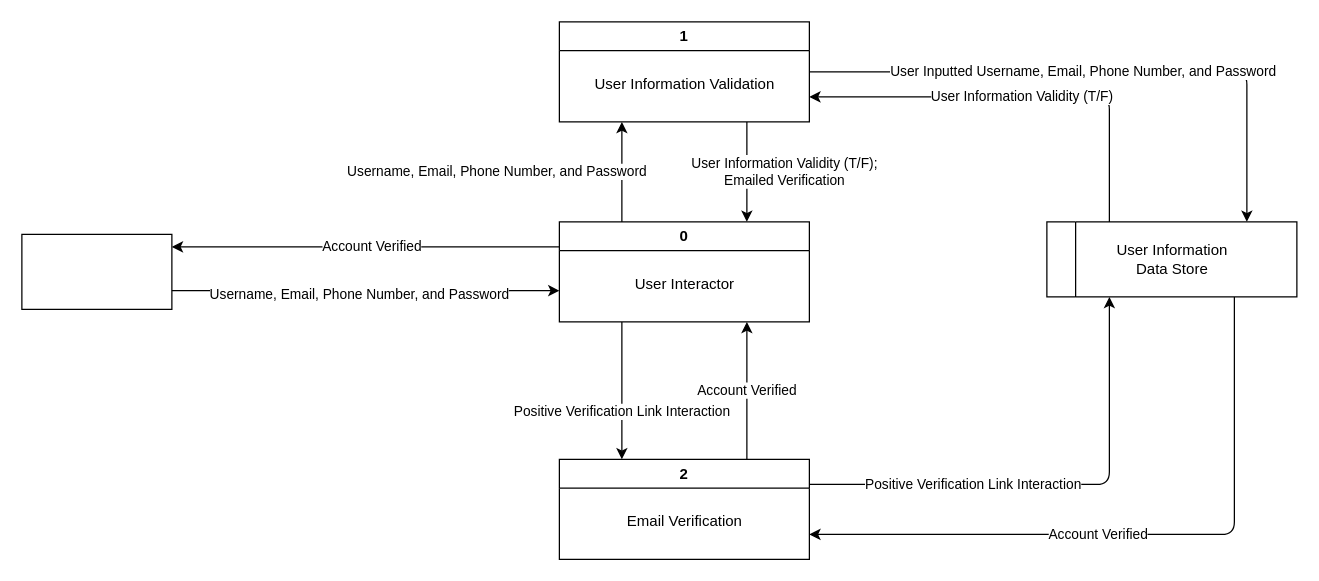
Image size: 1319x581. Some labels were removed from this diagram. Each missing label, with the box of its shape:
D1: (1046, 221, 1297, 297)
User: (21, 233, 172, 309)
